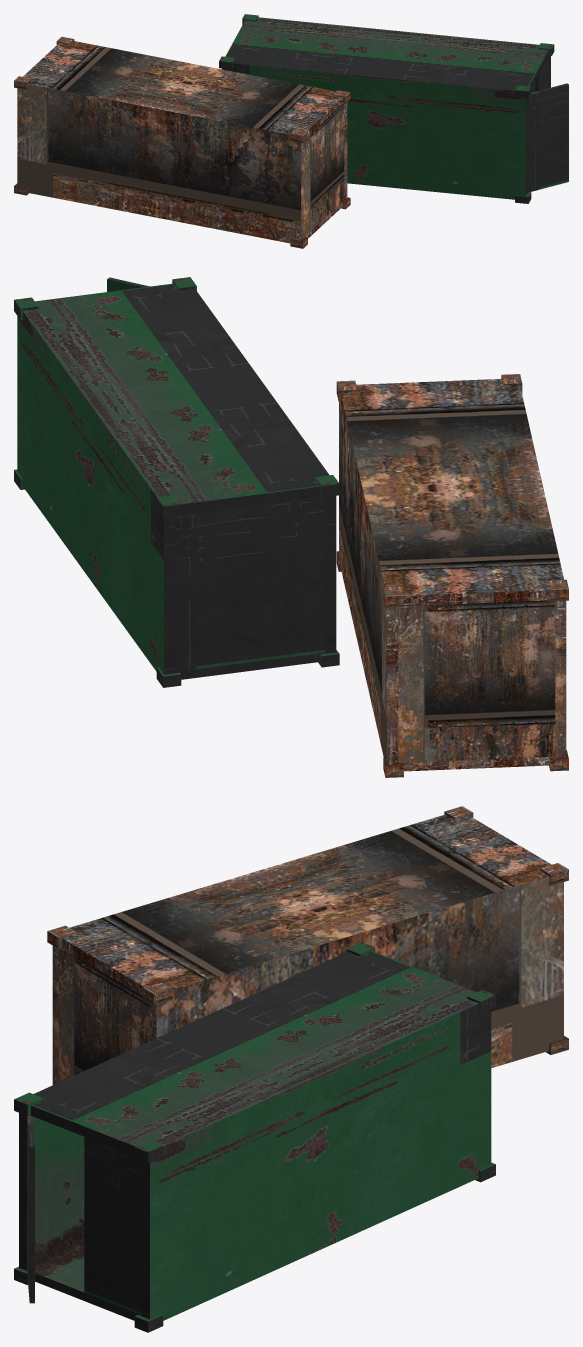
File: Container5_Closed0.fbx
The picture shows the model from 3 angles, top to bottom: view 1: azimuth 30°, elevation 25°; view 2: azimuth 150°, elevation 25°; view 3: azimuth 270°, elevation 25°; orthographic projection. The views are drawn at different scales.
Parts seen in each view (by area): view 1: Container5_Closed0; view 2: Container5_Closed0; view 3: Container5_Closed0.
Boxes of the visible parts, box(x1,y1,x2,y2) form: Container5_Closed0: box(14, 14, 568, 248); Container5_Closed0: box(14, 277, 568, 777); Container5_Closed0: box(14, 806, 568, 1332).
Size of the model in its own units: 1098 by 743 by 267.
